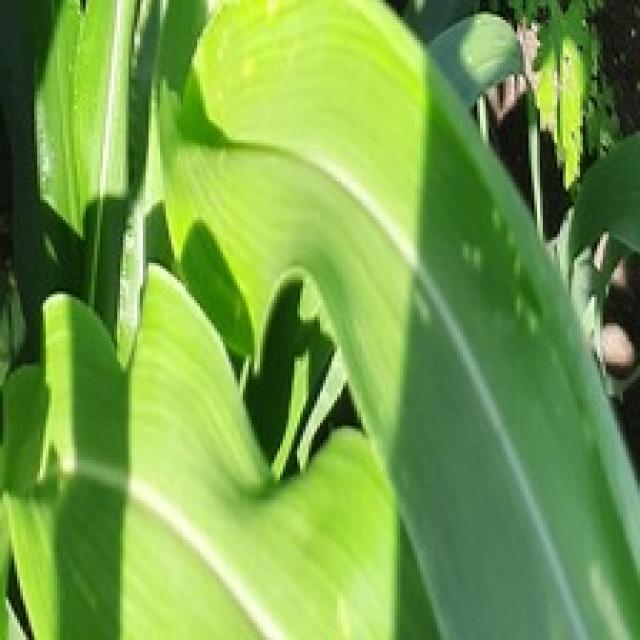Corn: (0, 0, 637, 637), (0, 260, 406, 637)
